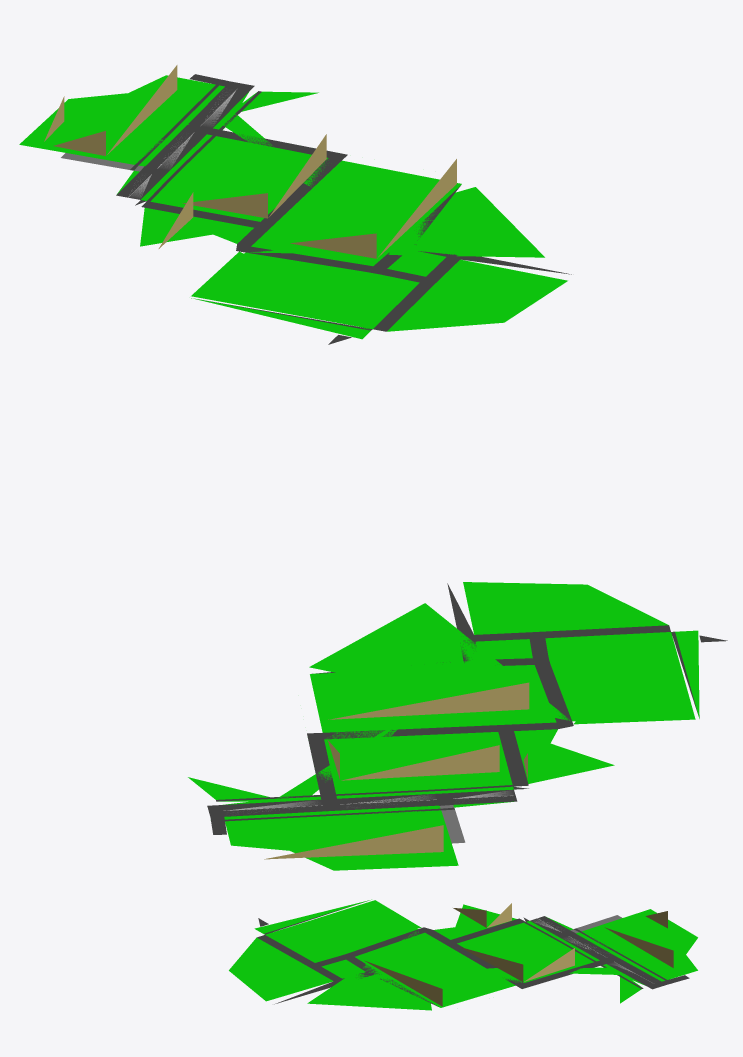
3 renders of one model, top to bottom at view 1: azimuth 30°, elevation 25°; view 2: azimuth 150°, elevation 25°; view 3: azimuth 270°, elevation 25°, orthographic. The views are drawn at different scales.
Bounding box in the file's own units: 130 × 7.5 × 274.
